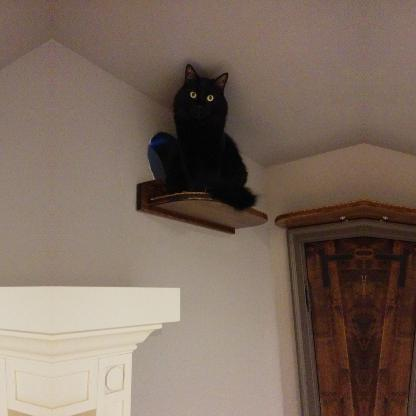Cat: (172, 62, 258, 212)
